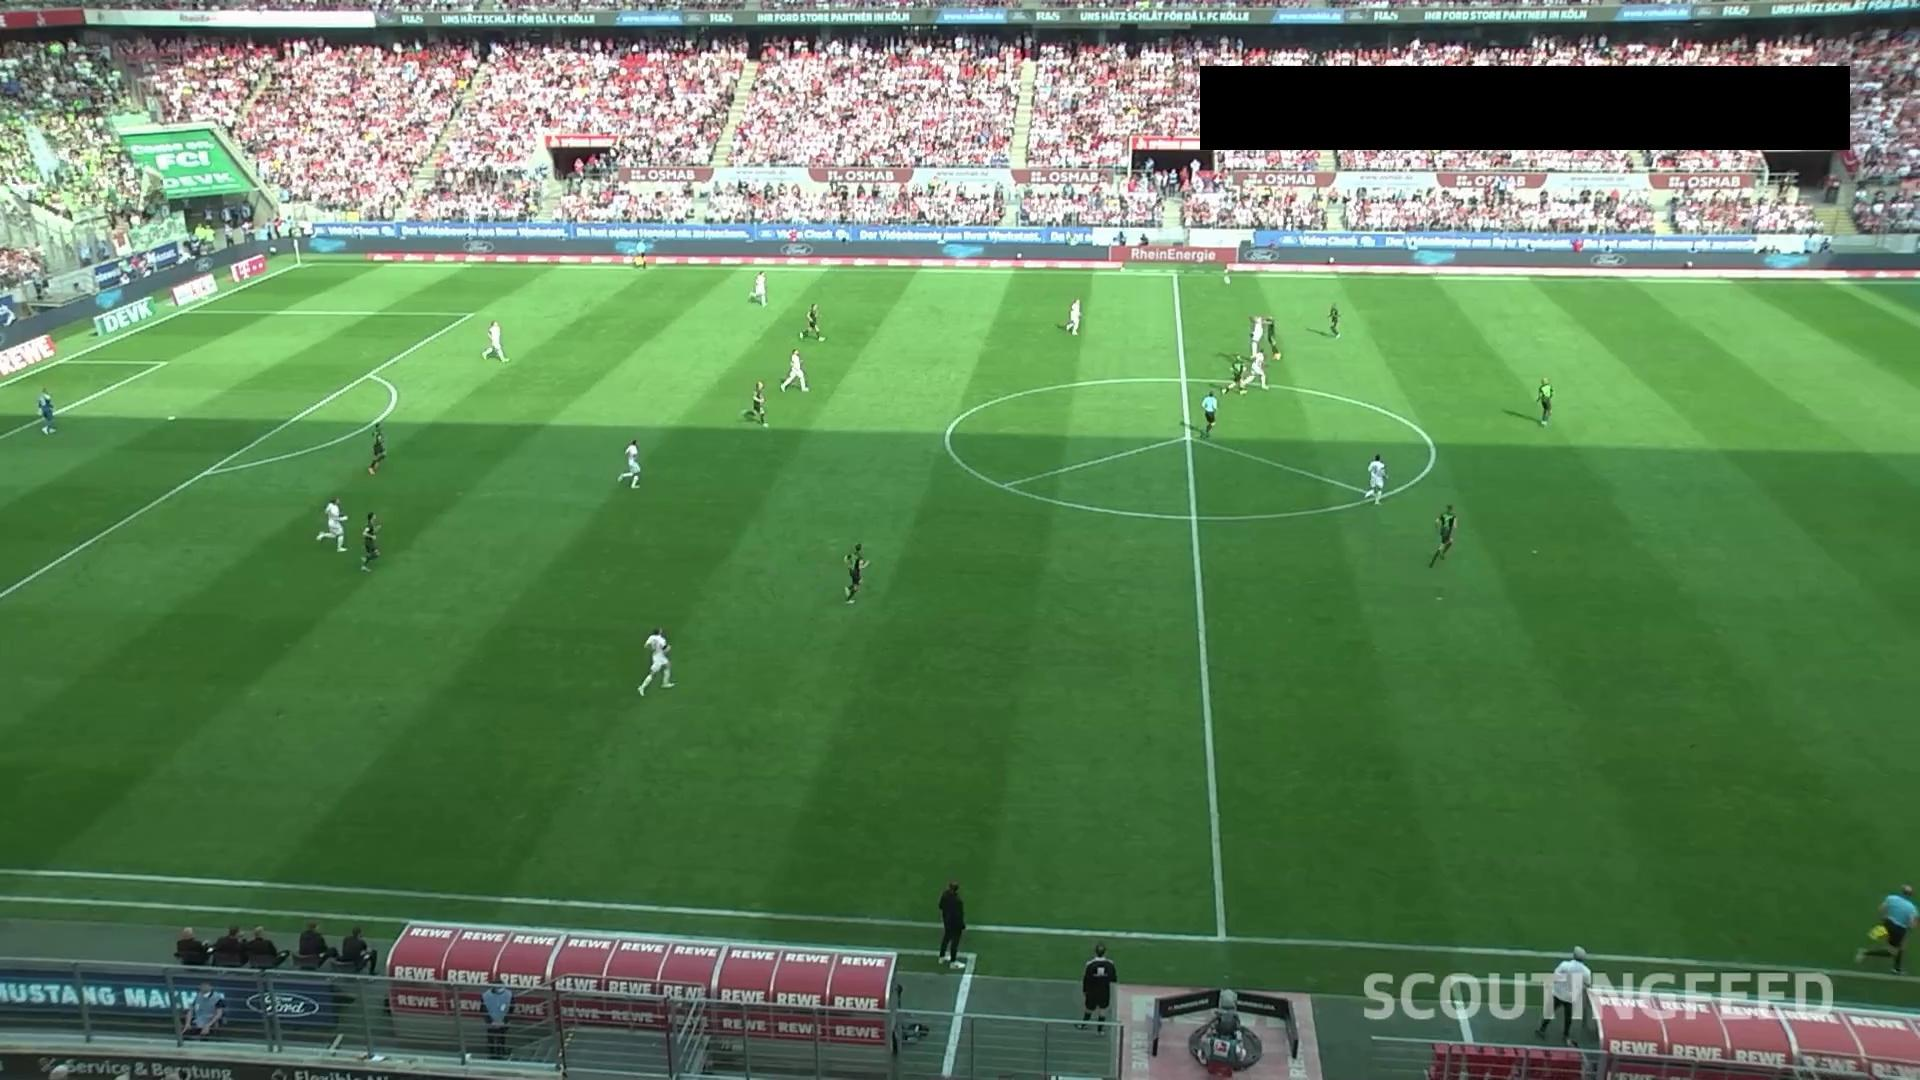Location-of-ball: (158, 405, 193, 438)
